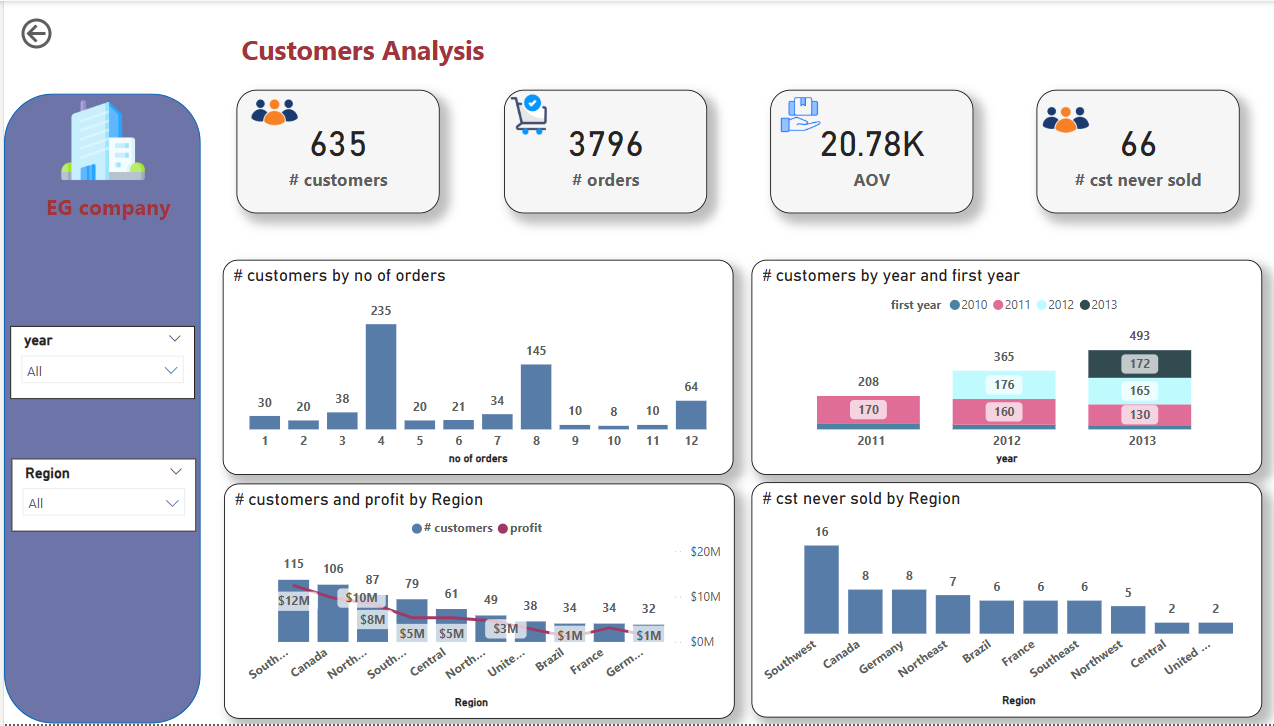

The dashboard page shown, as its layout file describes it:
{"tool":"powerbi","page":{"name":"cst analysis","canvas":[1280,720],"ordinal":1},"visuals":[{"type":"columnChart","fields":{"Y":["calculations.# customers"],"Category":["customers.no of cst"]},"box":[231.6,230.4,495.8,229.2],"z":0},{"type":"shape","box":[0,92.3,196,627.7],"z":1000},{"type":"slicer","fields":{"Values":["calendar.year"]},"box":[6.2,323.8,183.6,73.2],"z":2000},{"type":"card","fields":{"Values":["calculations.no cst never sold"]},"box":[1028.5,88.3,202.7,123.1],"z":3000},{"type":"card","fields":{"Values":["calculations.# customers"]},"box":[232.2,88.3,202.7,123.1],"z":4000},{"type":"card","fields":{"Values":["calculations.# orders"]},"box":[497.7,88.3,202.7,123.1],"z":5000},{"type":"card","fields":{"Values":["calculations.AOV"]},"box":[763.1,88.3,202.7,123.1],"z":6000},{"type":"lineStackedColumnComboChart","fields":{"Category":["calendar.year"],"Y":["calculations.# customers"],"Series":["customers.first year"]},"box":[744.4,230.4,497.1,229.2],"z":7000},{"type":"lineStackedColumnComboChart","fields":{"Y":["calculations.# customers"],"Y2":["calculations.profit"],"Category":["customers.Region"]},"box":[231.6,471.7,495.8,242.5],"z":8000},{"type":"columnChart","fields":{"Category":["customers.Region"],"Y":["calculations.# cst never sold"]},"box":[744.4,471.7,497.1,242.5],"z":9000},{"type":"image","box":[18.6,92.3,160,93],"z":10000},{"type":"slicer","fields":{"Values":["customers.Region"]},"box":[7.4,455.3,183.6,73.2],"z":11000},{"type":"textbox","box":[12.4,185.3,183.6,89.3],"z":12000},{"type":"textbox","box":[232,24.8,316.3,54.6],"z":13000},{"type":"actionButton","box":[12.5,12.5,49.8,39.9],"z":14000},{"type":"image","box":[763.4,88.4,61,49.8],"z":15000},{"type":"image","box":[498.2,85.9,49.8,54.8],"z":16000},{"type":"image","box":[240.4,80.9,58.5,59.8],"z":17000},{"type":"image","box":[1028.7,88.4,58.5,59.8],"z":18000}]}

Visuals, with their boxes in screenshot pixels (x1, y1, x2, y2), scaled from the page's 1280x720 canvas onto the 1274x726 screenshot:
columnChart - calculations.# customers x customers.no of cst: box(231, 232, 724, 463)
shape: box(0, 93, 195, 725)
slicer - calendar.year: box(6, 326, 189, 400)
card - calculations.no cst never sold: box(1024, 89, 1225, 213)
card - calculations.# customers: box(231, 89, 433, 213)
card - calculations.# orders: box(495, 89, 697, 213)
card - calculations.AOV: box(760, 89, 961, 213)
lineStackedColumnComboChart - calendar.year x calculations.# customers: box(741, 232, 1236, 463)
lineStackedColumnComboChart - calculations.# customers x calculations.profit: box(231, 476, 724, 720)
columnChart - customers.Region x calculations.# cst never sold: box(741, 476, 1236, 720)
image: box(19, 93, 178, 187)
slicer - customers.Region: box(7, 459, 190, 533)
textbox: box(12, 187, 195, 277)
textbox: box(231, 25, 546, 80)
actionButton: box(12, 13, 62, 53)
image: box(760, 89, 821, 139)
image: box(496, 87, 545, 142)
image: box(239, 82, 297, 142)
image: box(1024, 89, 1082, 149)
